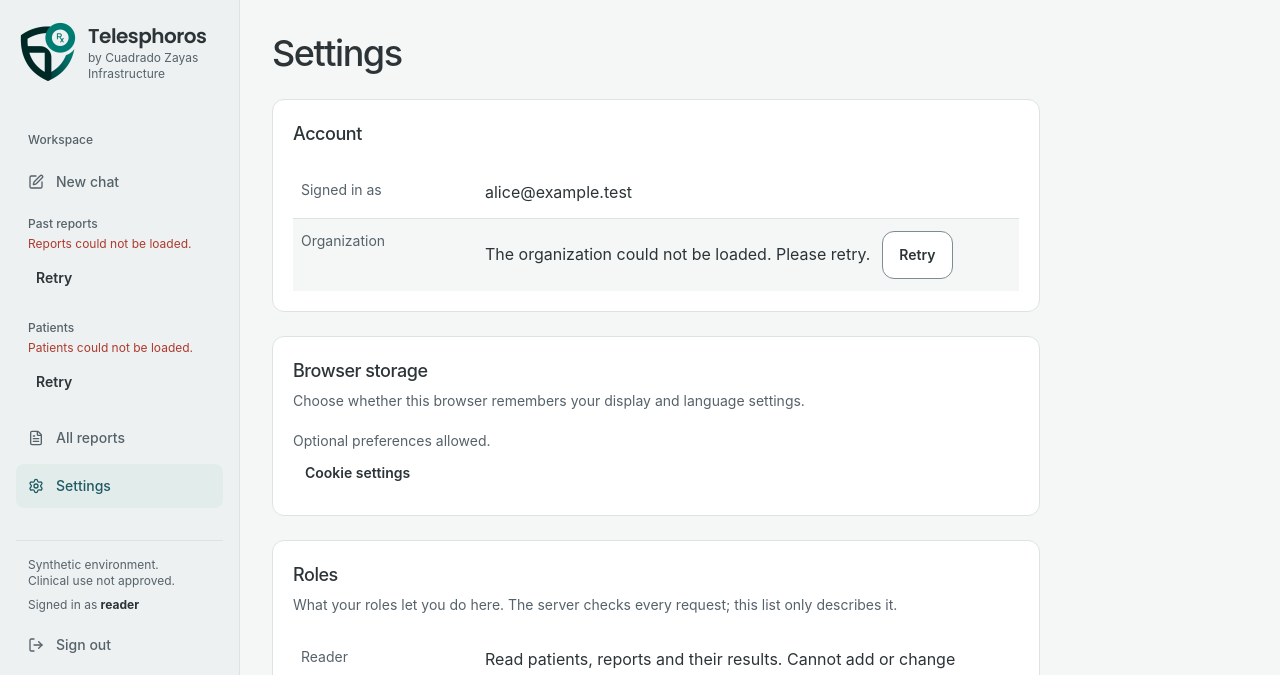
Test: Settings › reports a failed load and loads again on Retry
The image size is (1280, 675).
Expected: the message "The organization could not be loaded. Please retry." is shown, [485, 242, 870, 268]
Step 1. Click the button "Retry" below "alice@example.test" → (917, 255), box [882, 231, 952, 279]
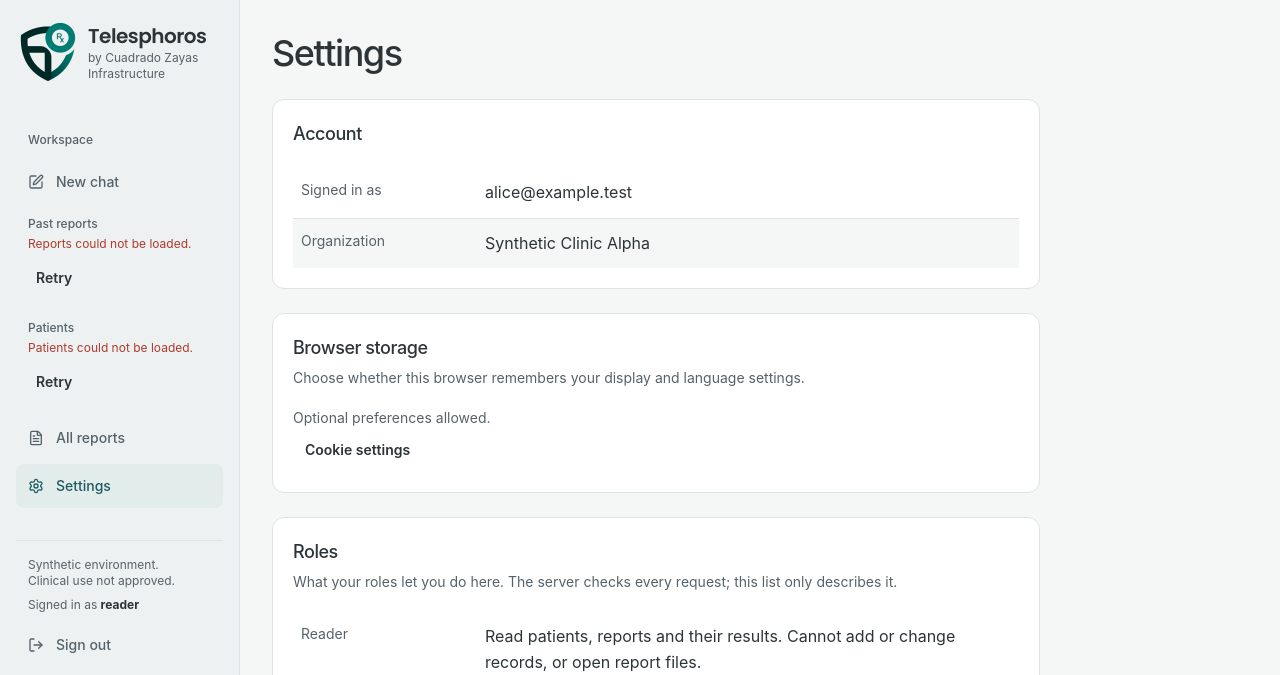
Expected: the text "Synthetic Clinic Alpha" is shown, [485, 231, 650, 256]
